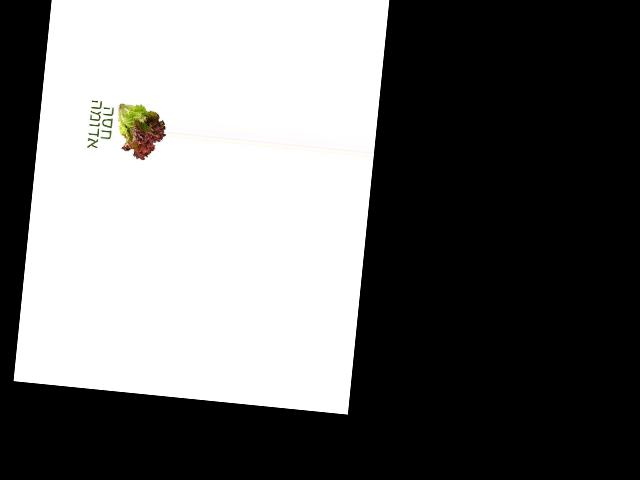lettuce: (111, 96, 169, 163)
